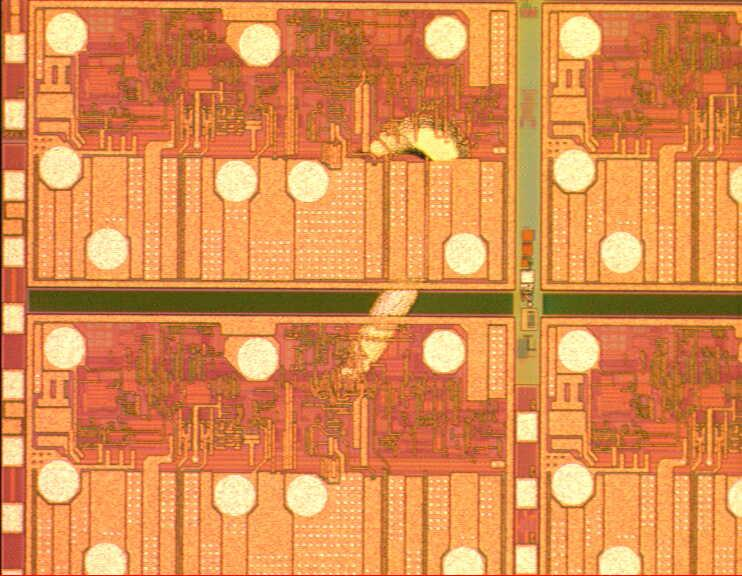BLOCK ETCH: (328, 110, 472, 393)
